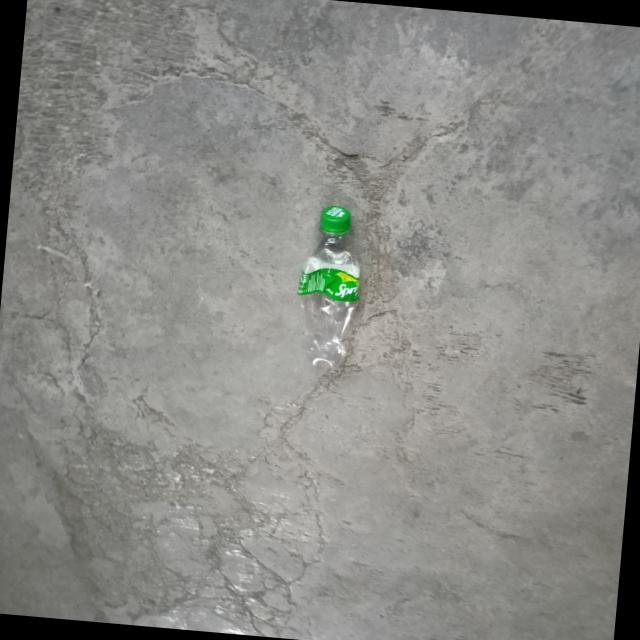Bottle: (297, 206, 359, 368)
